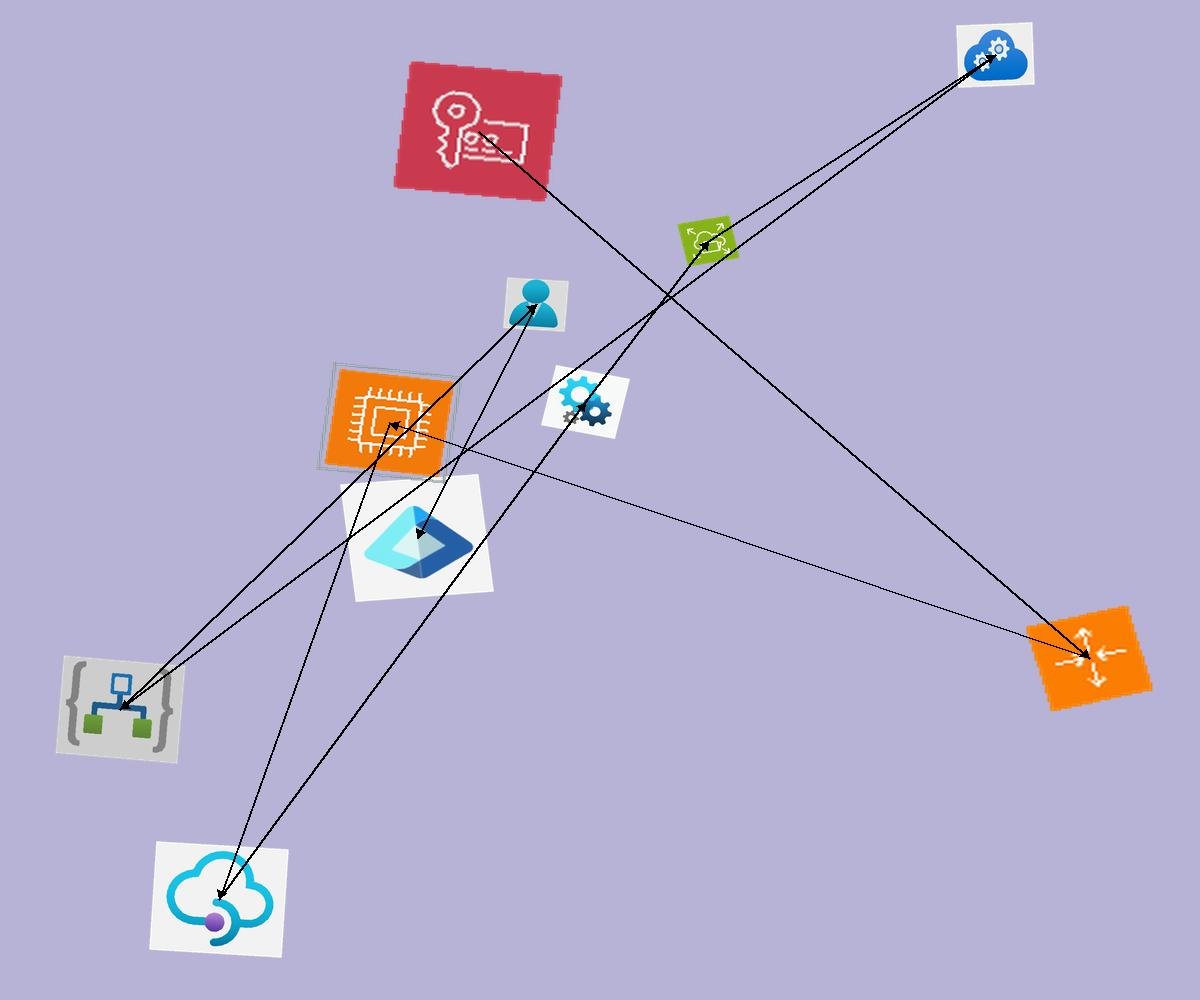AWS-Category_Compute: (316, 362, 463, 484)
AWS-EFS: (677, 215, 740, 267)
AWS-Key-Management-Service: (392, 60, 564, 203)
AWS-Scaling-group: (1024, 604, 1155, 713)
Azure_api: (541, 365, 630, 439)
Azure_api_gateway: (149, 841, 289, 958)
Azure_cloud_services: (956, 22, 1035, 88)
Azure_integration-204-Logic-Apps: (55, 655, 186, 764)
Azure_microsoft_entra: (340, 474, 494, 602)
Azure_users: (503, 277, 569, 332)
